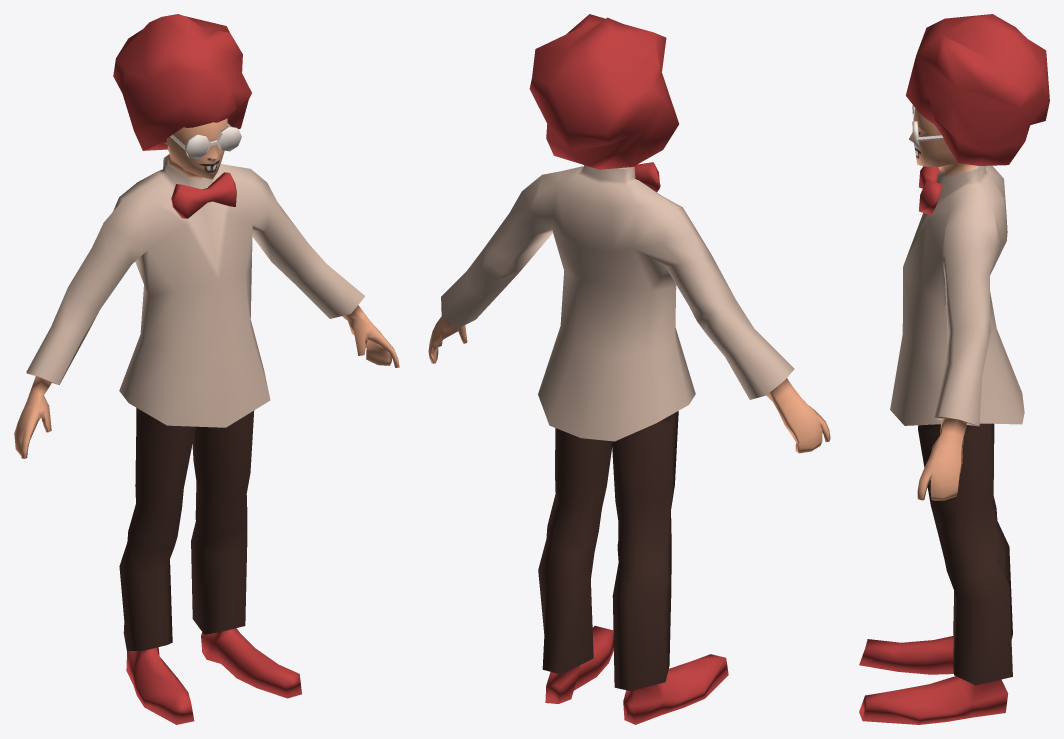
The model's file is CharPoindexter.fbx.
The picture shows the model from 3 angles, left to right: view 1: azimuth 30°, elevation 25°; view 2: azimuth 150°, elevation 25°; view 3: azimuth 270°, elevation 25°; orthographic projection. The views are drawn at different scales.
Parts seen in each view (by area): view 1: CharPoindexter; view 2: CharPoindexter; view 3: CharPoindexter.
Part boxes in pixels (x1,y1,x2,y2): CharPoindexter: (14,14,399,724); CharPoindexter: (428,14,830,724); CharPoindexter: (859,14,1049,724).
Bounding box in the file's own units: 120 × 199 × 51.03.
